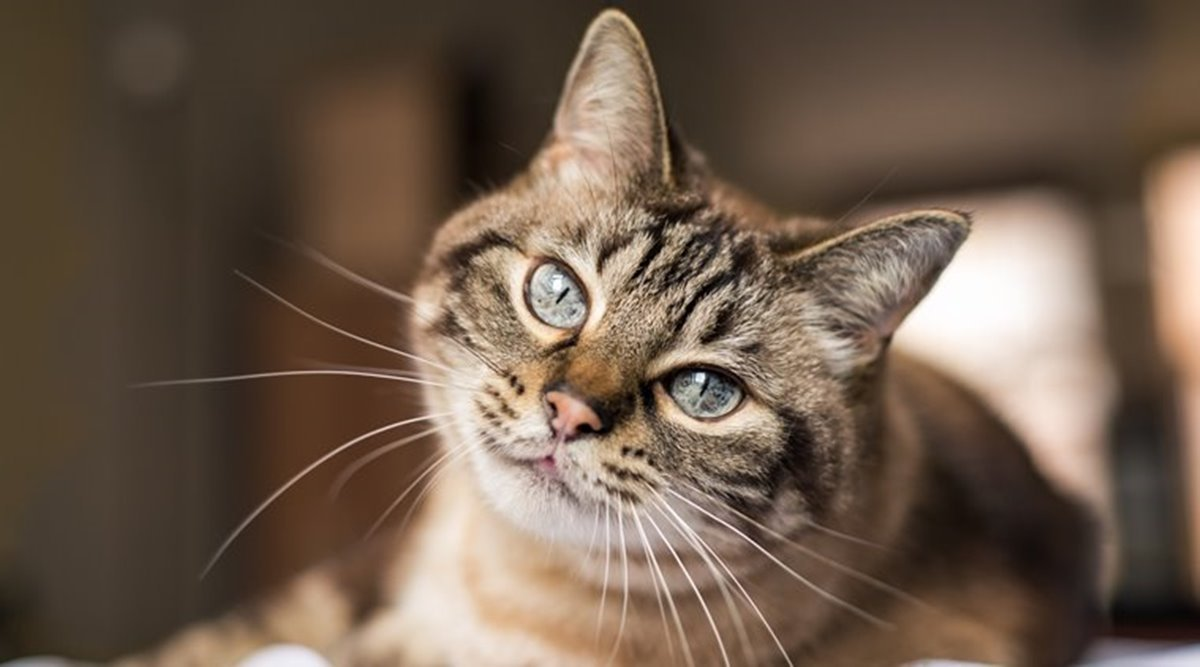cat: (377, 4, 1116, 667)
